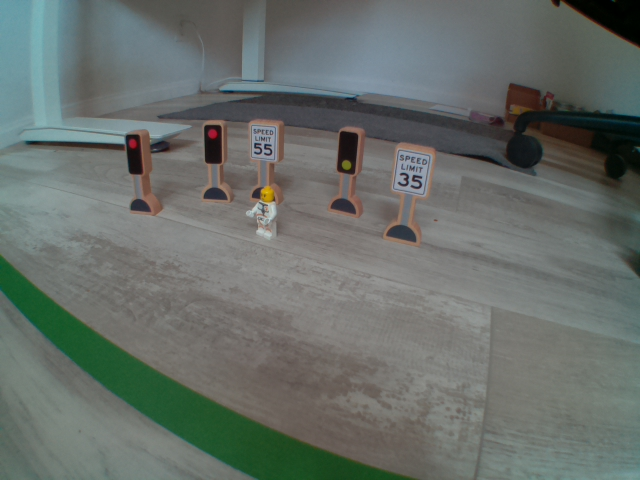Green Traffic Light: (334, 124, 364, 179)
Red Traffic Light: (121, 126, 152, 181), (200, 114, 226, 169)
Speed Limit 35: (389, 139, 431, 198)
Speed Limit 55: (249, 121, 283, 162)
person: (244, 181, 285, 245)
